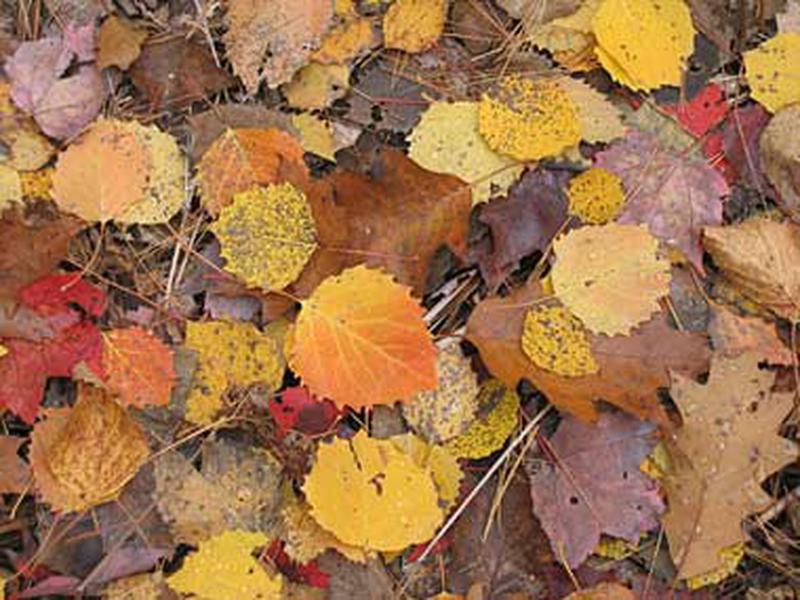leaf: (643, 344, 800, 586), (278, 262, 448, 416), (297, 427, 447, 551), (541, 221, 679, 343), (203, 176, 321, 297), (696, 204, 800, 325), (93, 321, 180, 411)
